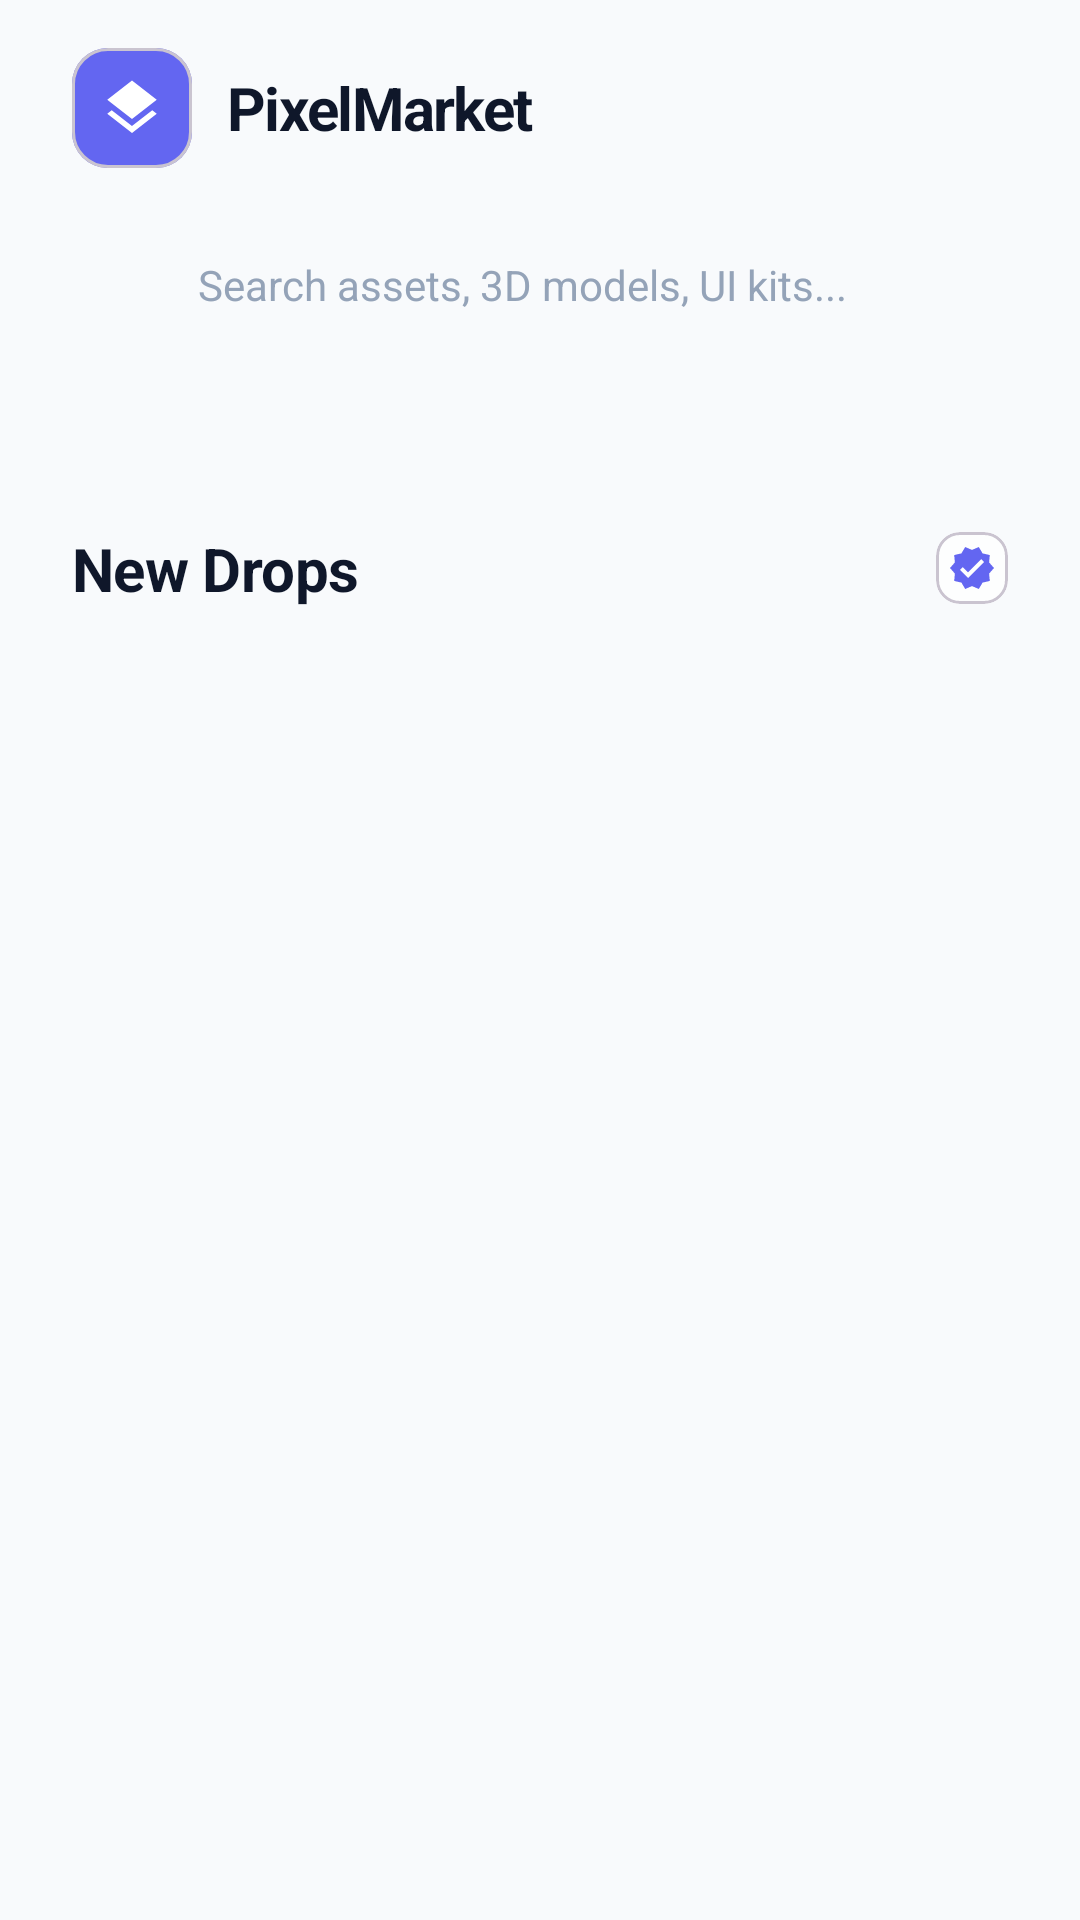

Icons on this 1080px x 1920px Android screen, each with its box as (x1, y1, x2, y2):
layers: (107, 80, 157, 133)
verified: (950, 547, 994, 589)
